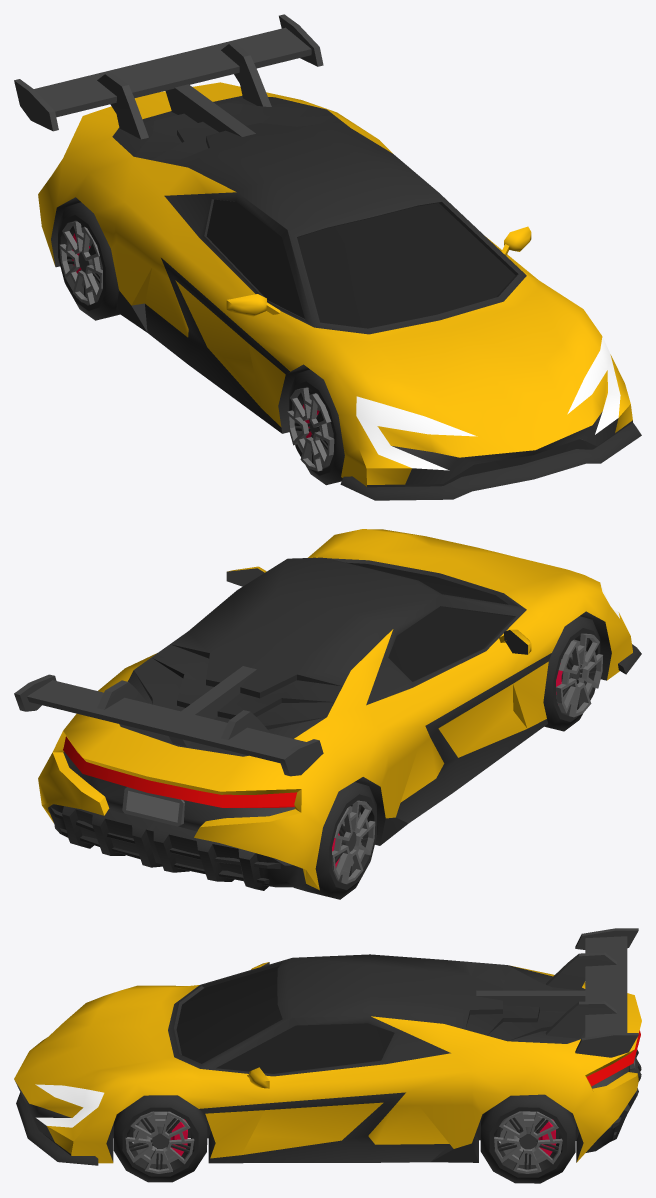
Rendered from yang.glb.
3 renders of one model, top to bottom at view 1: azimuth 30°, elevation 25°; view 2: azimuth 150°, elevation 25°; view 3: azimuth 270°, elevation 25°, orthographic. The views are drawn at different scales.
Parts seen in each view (by area): view 1: yang, wheels.003, wheels.004; view 2: yang, wheels.003, wheels.004; view 3: yang, wheels.002, wheels.001.
Part boxes in pixels (left/top/right/bottom): yang: left=14, top=14, right=641, bottom=500; wheels.003: left=58, top=202, right=120, bottom=320; wheels.004: left=287, top=369, right=344, bottom=485; yang: left=14, top=529, right=641, bottom=890; wheels.003: left=293, top=782, right=377, bottom=899; wheels.004: left=543, top=616, right=602, bottom=731; yang: left=14, top=928, right=641, bottom=1165; wheels.002: left=480, top=1094, right=575, bottom=1183; wheels.001: left=113, top=1095, right=207, bottom=1182.
Bounding box in the file's own units: 3.03 × 1.83 × 6.76.
Materials: 3 (3 with a texture image).
